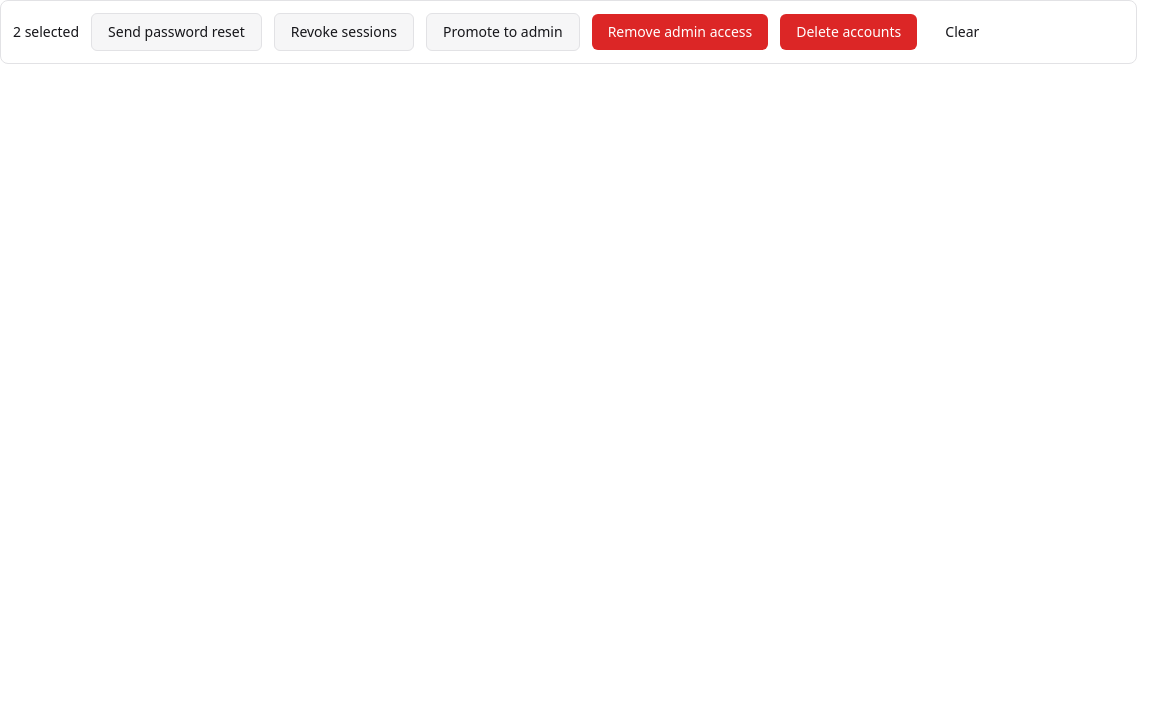
Test: UserBulkActions › reports a partial failure on demote and keeps the refused user selected
The image size is (1152, 720).
Expected: the text "2 selected" is shown, [13, 22, 79, 42]
Click the button "Remove admin access" at (680, 32), box [592, 14, 768, 50]
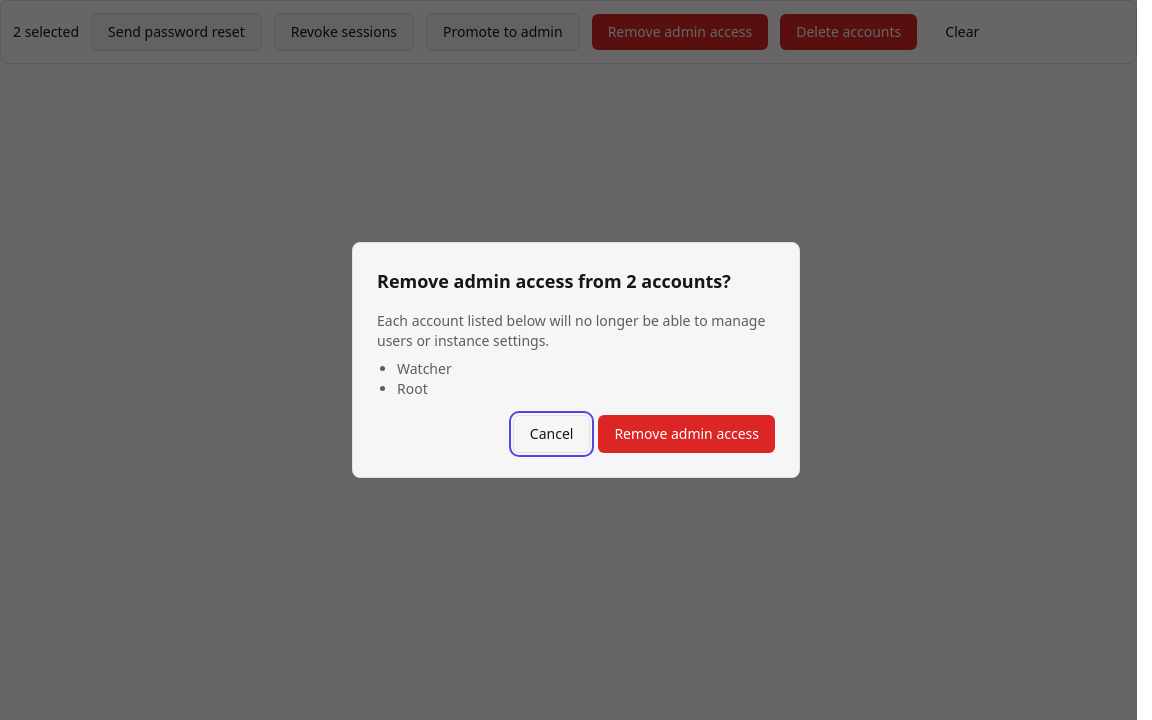
Click the button "Remove admin access" at (687, 434), box [598, 415, 775, 453]
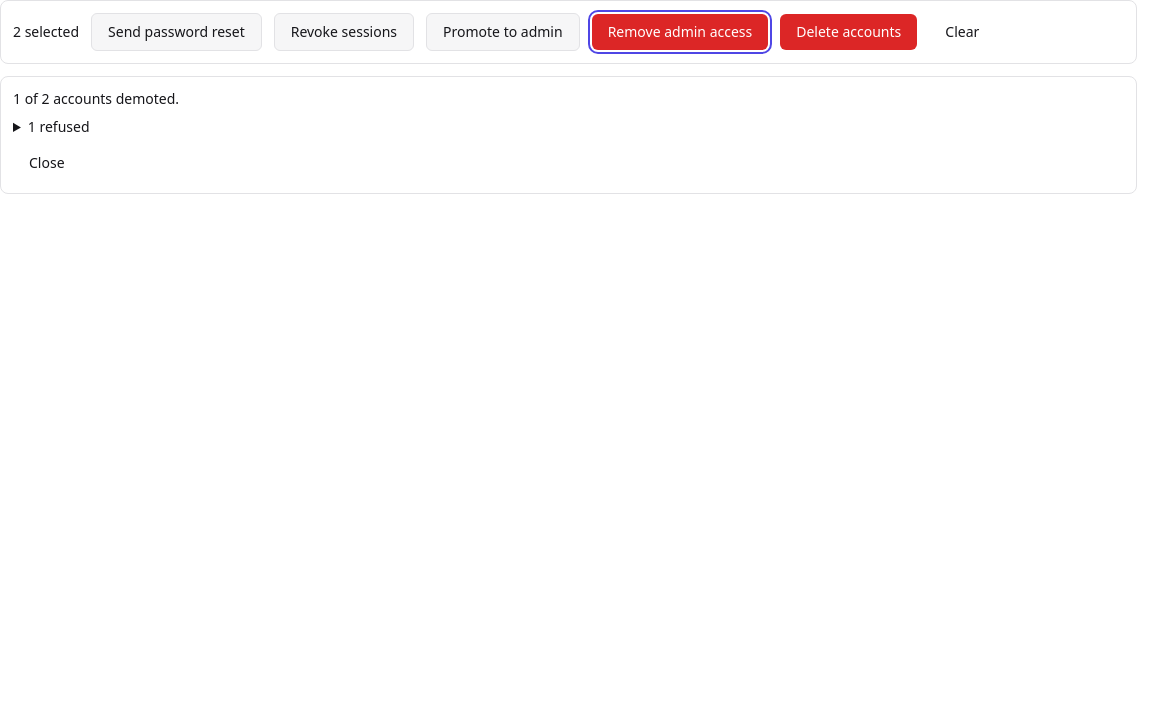
Click the heading "1 refused" at (59, 126), box [28, 117, 90, 136]
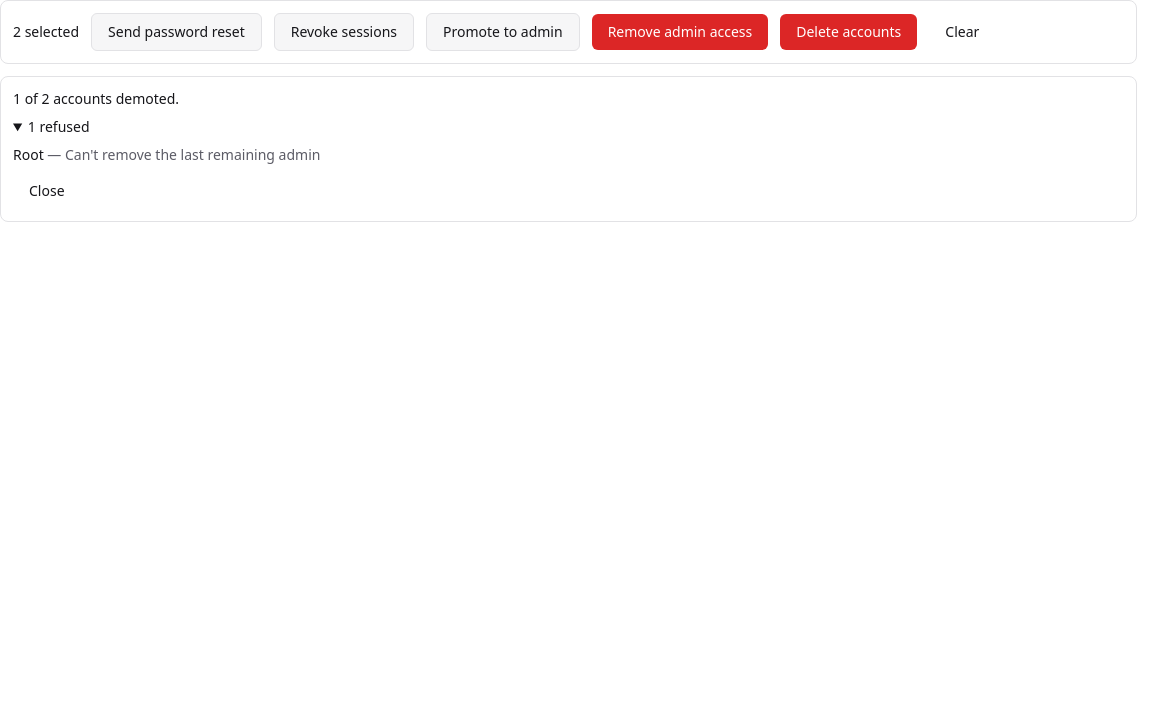
Now the text "Can't remove the last remaining admin" is shown, box [65, 145, 320, 164]
Now the text "Root" is shown, box [13, 145, 44, 164]
